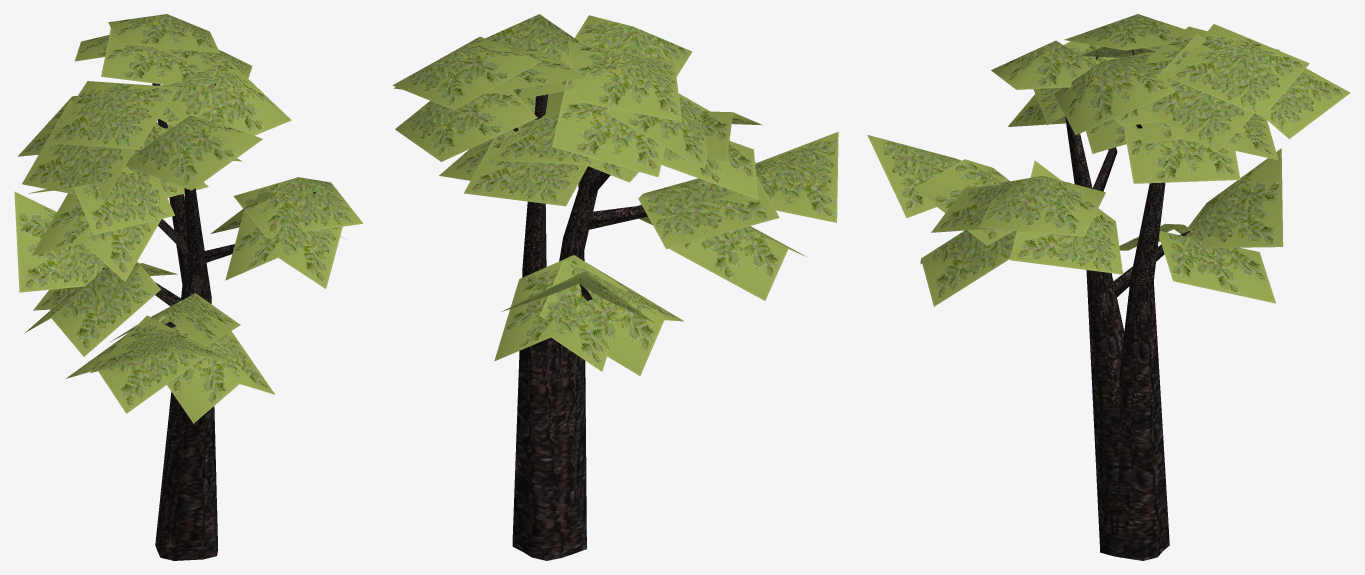
The model's file is tree.glb.
3 renders of one model, left to right at view 1: azimuth 30°, elevation 25°; view 2: azimuth 150°, elevation 25°; view 3: azimuth 270°, elevation 25°, orthographic. The views are drawn at different scales.
Parts seen in each view (by area): view 1: tree_big; view 2: tree_big; view 3: tree_big.
Part boxes in pixels (box(x1,y1,x2,y2)): tree_big: box(14, 14, 362, 560); tree_big: box(392, 14, 838, 560); tree_big: box(867, 14, 1350, 560).
Bounding box in the file's own units: 6.78 × 10.46 × 8.97.
Materials: 2 (2 with a texture image).
